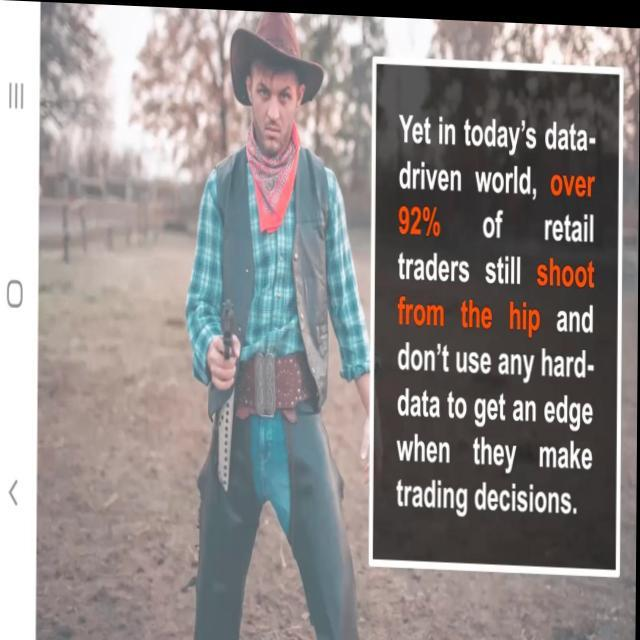weapon: (217, 292, 240, 396)
